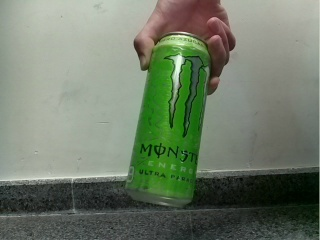botella plastico: (124, 31, 211, 208)
